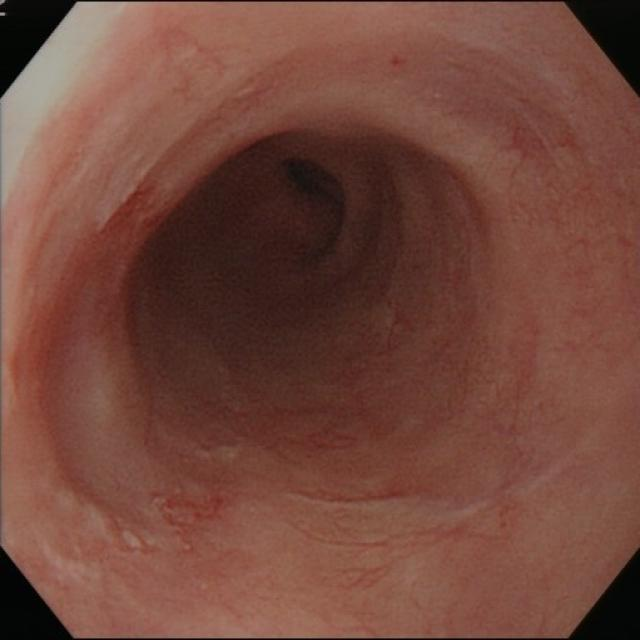A: (148, 486, 235, 558), (94, 176, 155, 245)
E: (257, 153, 352, 275)
J: (35, 485, 146, 586)
